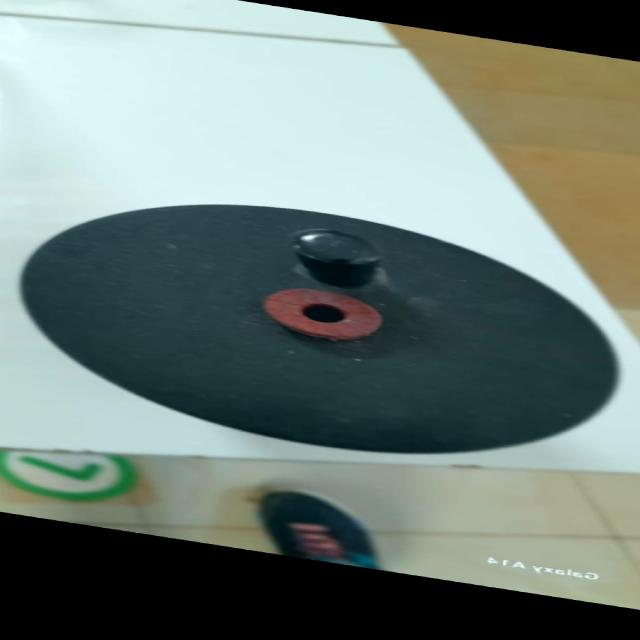Calorimeter: (3, 163, 629, 493)
